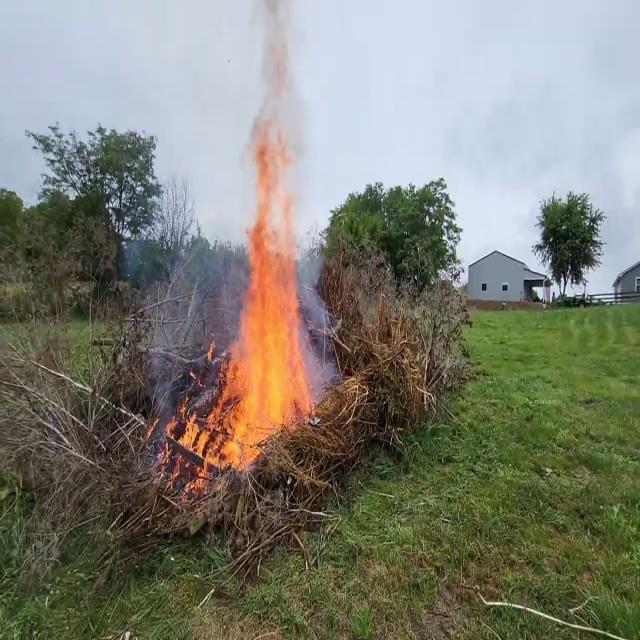Fire: (166, 191, 318, 480)
Smoke: (240, 0, 322, 238)
